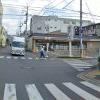crosswalks: (1, 55, 57, 61)
